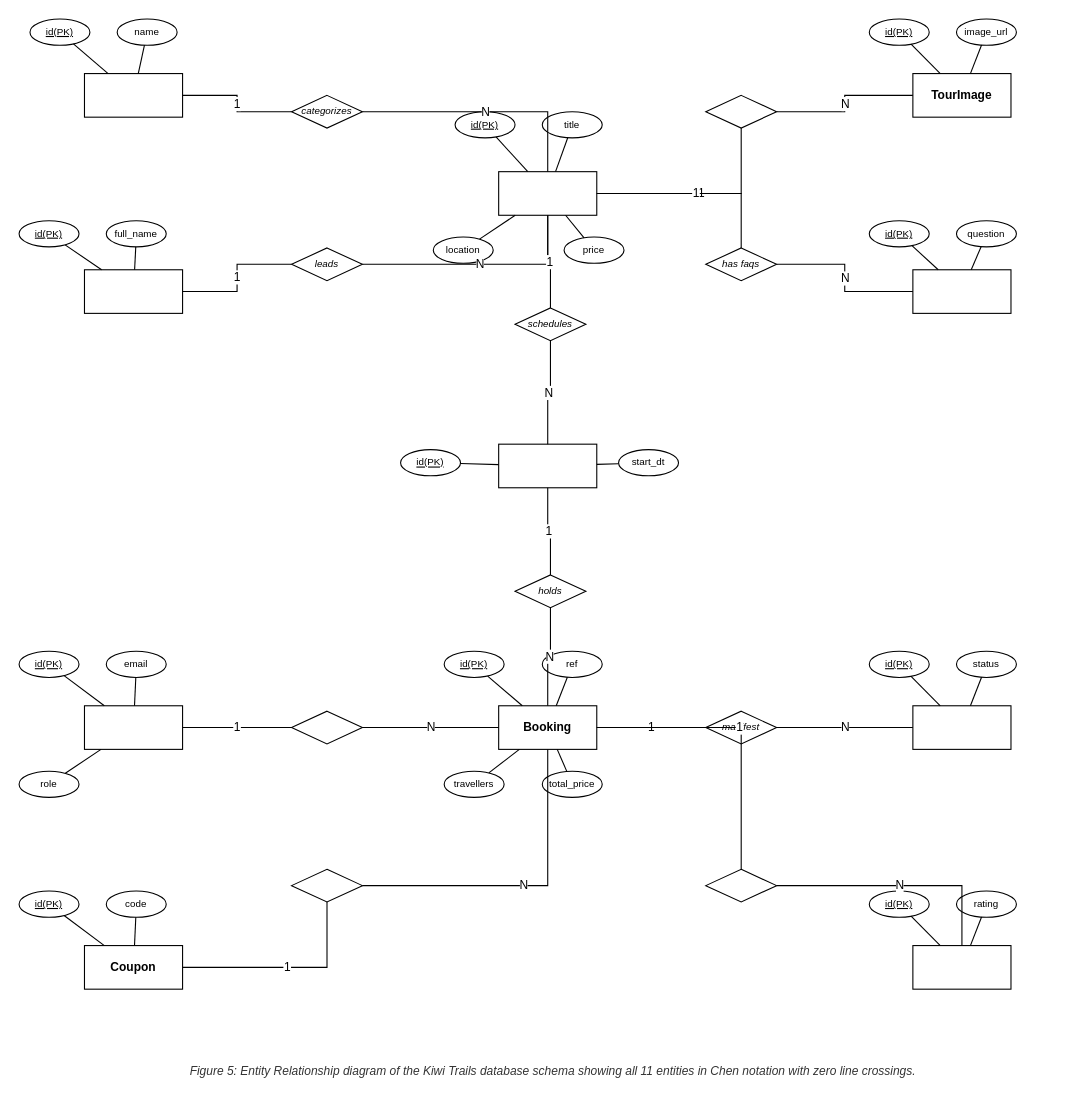
The diagram is 1085 pixels wide and 1106 high, and some of its shapes have lost their labels. Each missing label, with the box of its shape:
applies: (290, 868, 362, 902)
Attendance: (912, 705, 1011, 749)
Category: (83, 72, 183, 117)
Departure: (498, 443, 597, 488)
evaluates: (705, 868, 777, 902)
Guide: (83, 269, 183, 313)
has images: (705, 94, 777, 128)
reserves: (290, 710, 362, 744)
Review: (912, 944, 1011, 989)
Tour: (498, 171, 597, 215)
TourFaq: (912, 269, 1011, 313)
User: (83, 705, 183, 749)
